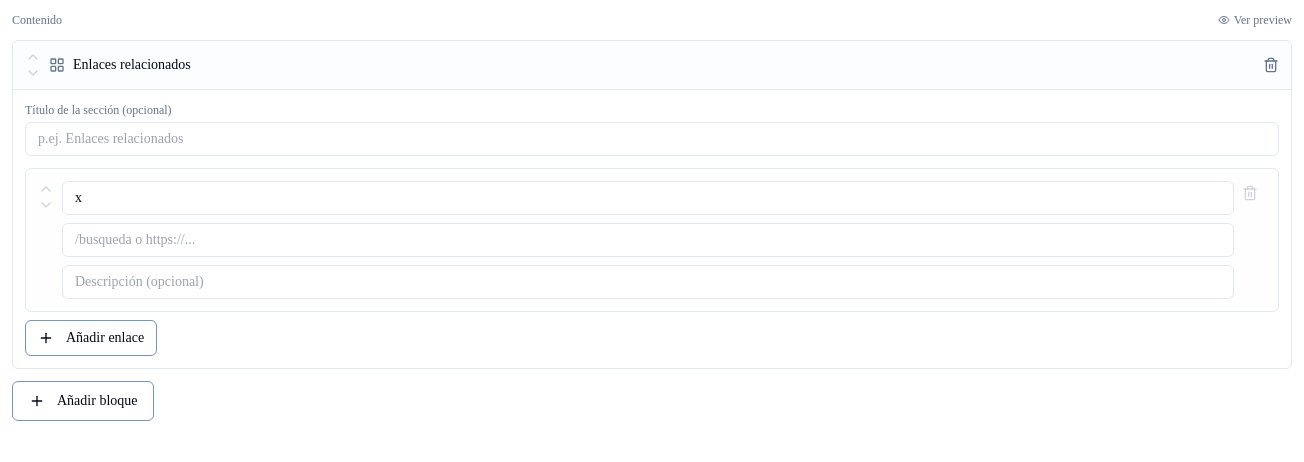
Scenario: BlockEditor — formularios producen bloques válidos › hub: un link con href javascript: muestra el error inline
Type "javascript:alert(1)" into the field with placeholder "/busqueda o https://...".
click(648, 240); type("javascript:alert(1)")  # box [62,223,1234,257]
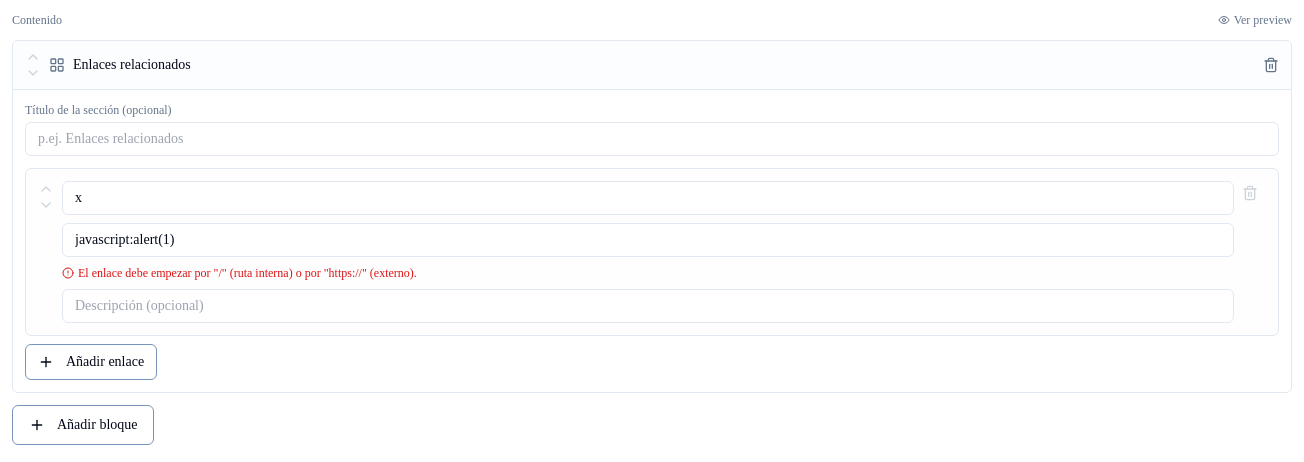
Expected: the text "El enlace debe empezar por" is shown, [78,266,417,280]
